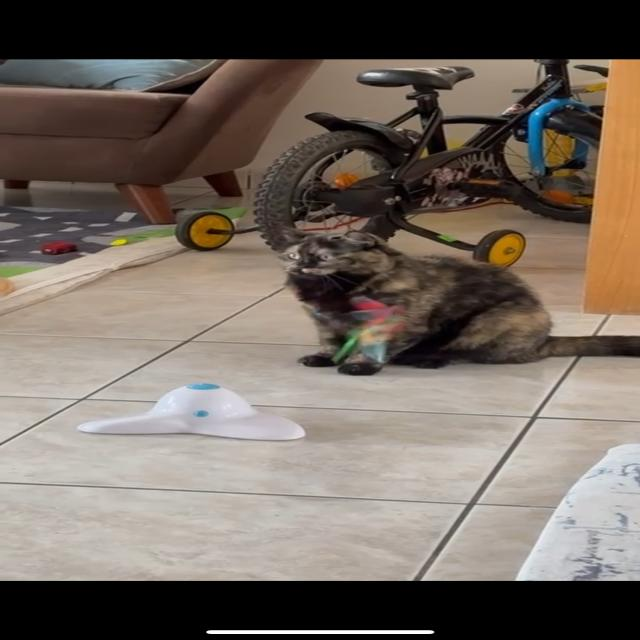authorized: (265, 225, 638, 375)
